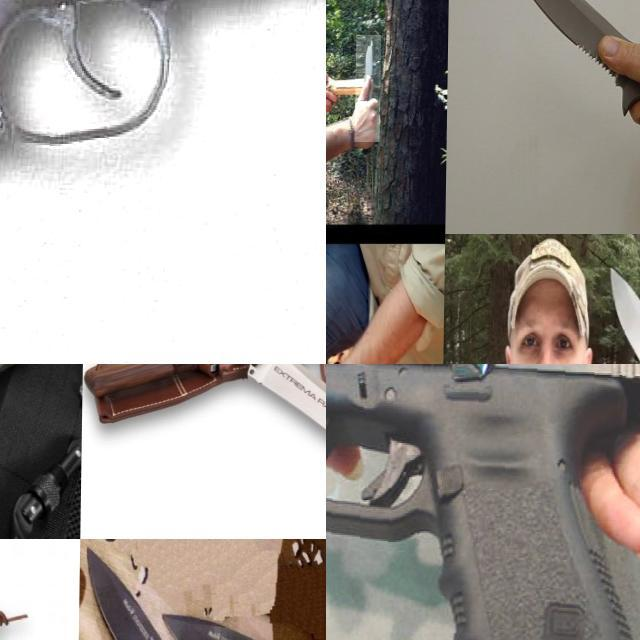-: (492, 0, 640, 171), (0, 364, 109, 525), (84, 544, 189, 640), (239, 364, 326, 445), (158, 608, 284, 640), (356, 35, 382, 142)
gun-knife-thesis - v11 Yolov5 augmented: (0, 0, 326, 364), (326, 364, 640, 640)
